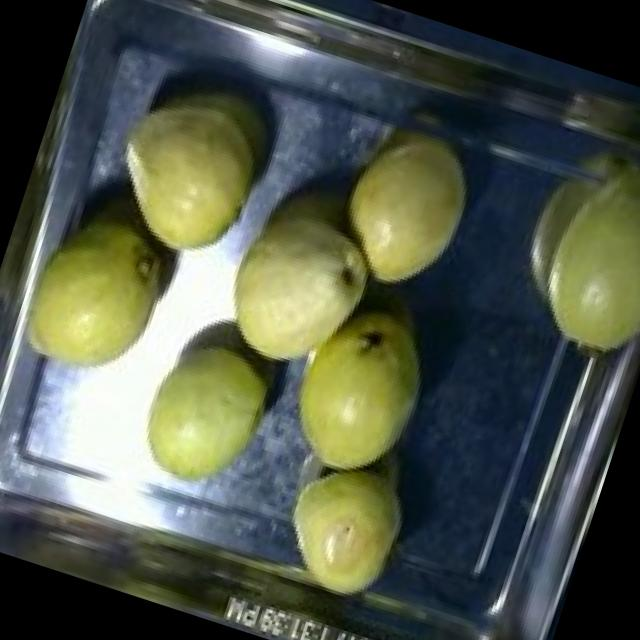Fruit: (80, 47, 304, 286), (193, 152, 409, 398), (0, 166, 205, 411), (262, 280, 454, 500), (110, 309, 299, 515), (497, 115, 640, 379), (313, 109, 493, 312), (258, 442, 426, 616)
